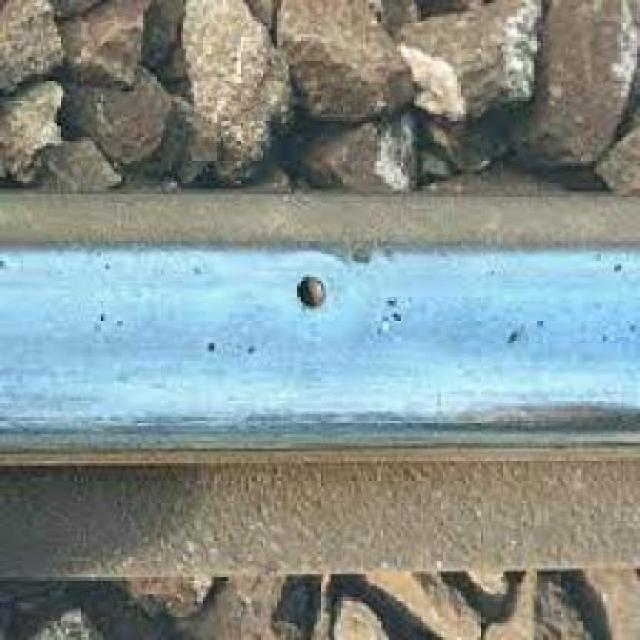defective: (0, 174, 640, 550)
